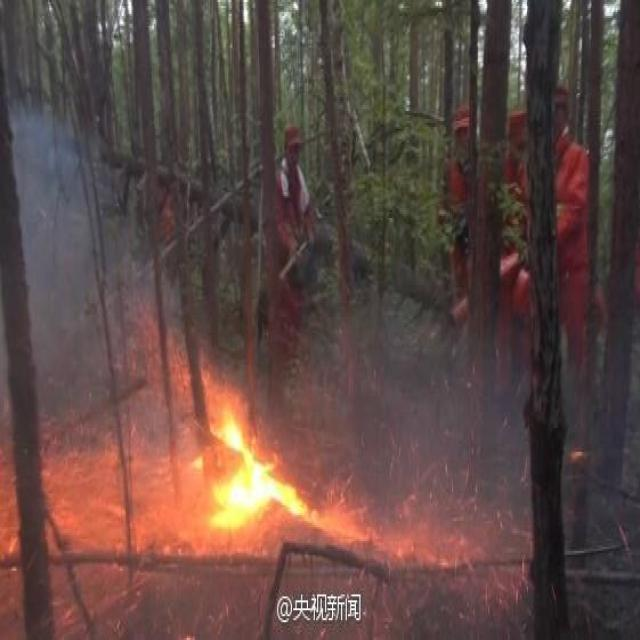fire: (180, 376, 314, 540)
